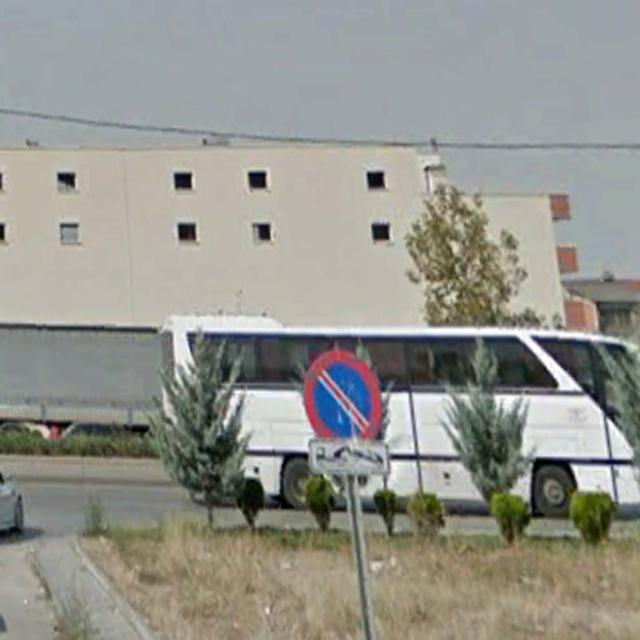parkyasak: (305, 348, 382, 449)
